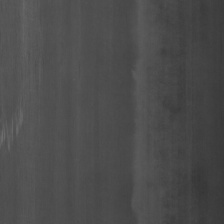silk_spot: (0, 94, 25, 160)
